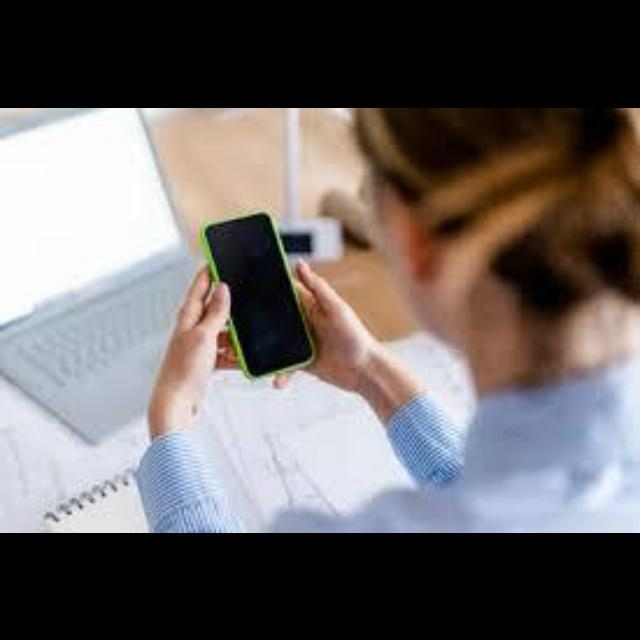phone: (213, 215, 315, 385)
